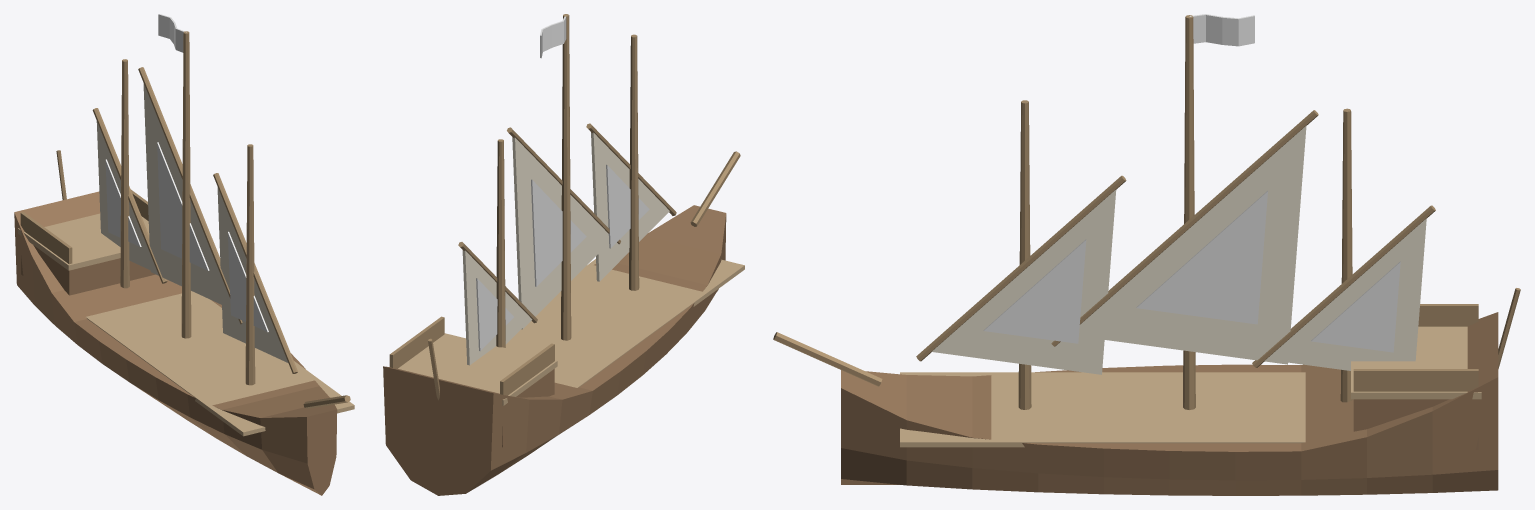
File: civ_unit_caravel.glb
3 views of the same model, side by side, from view 1: azimuth 30°, elevation 25°; view 2: azimuth 150°, elevation 25°; view 3: azimuth 270°, elevation 25° (orthographic). The views are drawn at different scales.
Visible parts, largest first — view 1: civ_unit_caravel; view 2: civ_unit_caravel; view 3: civ_unit_caravel.
Part boxes in pixels (left/top/right/bottom): civ_unit_caravel: left=14, top=14, right=354, bottom=495; civ_unit_caravel: left=383, top=14, right=744, bottom=495; civ_unit_caravel: left=773, top=14, right=1520, bottom=495.
Size of the model in its own units: 2.2 by 5.5 by 7.96.
